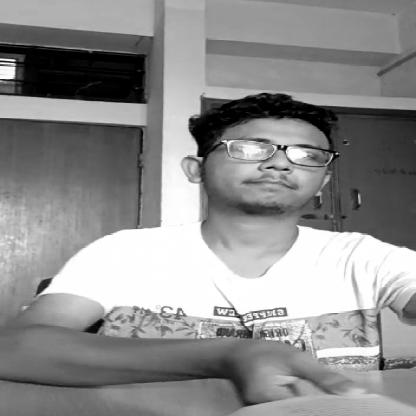Normal: (181, 109, 346, 235)
